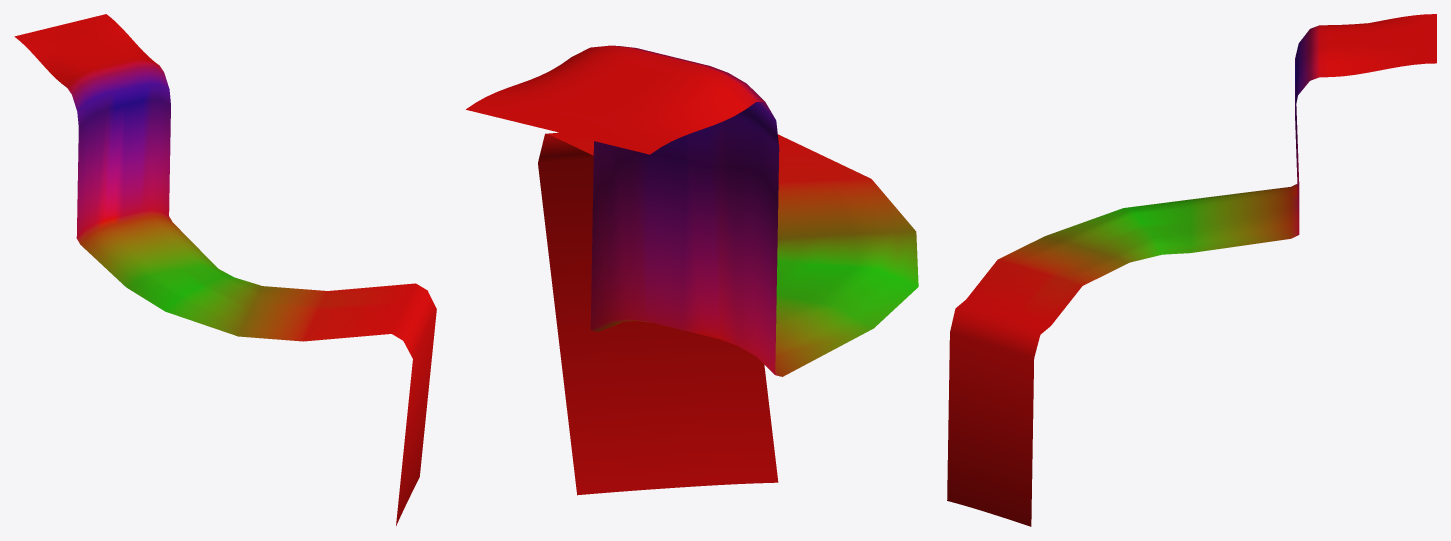
Rendered from CascadeMeshTest.fbx.
The picture shows the model from 3 angles, left to right: view 1: azimuth 30°, elevation 25°; view 2: azimuth 150°, elevation 25°; view 3: azimuth 270°, elevation 25°; orthographic projection. The views are drawn at different scales.
Visible parts, largest first — view 1: pPlane1; view 2: pPlane1; view 3: pPlane1.
Boxes of the visible parts, x1,y1,x2,y2 form: pPlane1: (14,14,436,525); pPlane1: (466,45,918,495); pPlane1: (947,14,1436,526).
Size of the model in its own units: 15.44 by 22.56 by 24.92.
